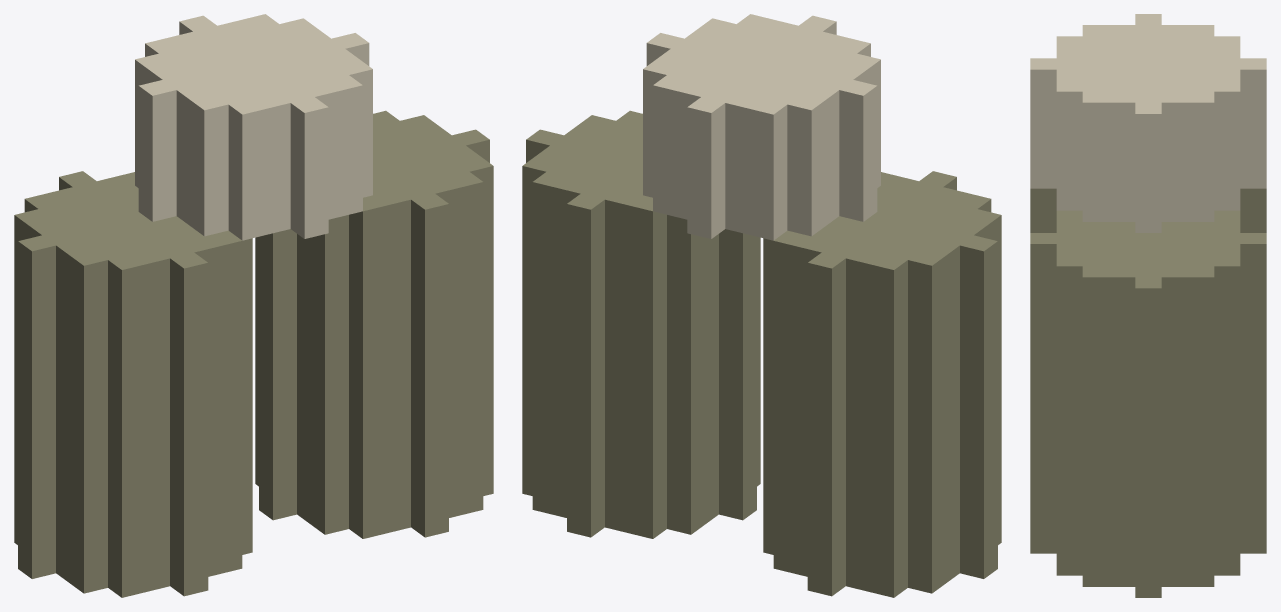
Rendered from fitness-18.glb.
3 views of the same model, side by side, from view 1: azimuth 30°, elevation 25°; view 2: azimuth 150°, elevation 25°; view 3: azimuth 270°, elevation 25° (orthographic). The views are drawn at different scales.
Parts seen in each view (by area): view 1: Foam roller; view 2: Foam roller; view 3: Foam roller.
Part boxes in pixels (x1,y1,x2,y2): Foam roller: [14, 14, 493, 597]; Foam roller: [522, 14, 1001, 597]; Foam roller: [1030, 14, 1266, 597].
Bounding box in the file's own units: 1.52 × 1.44 × 0.72.
